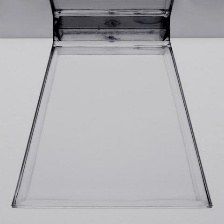glass: (9, 24, 223, 217)
